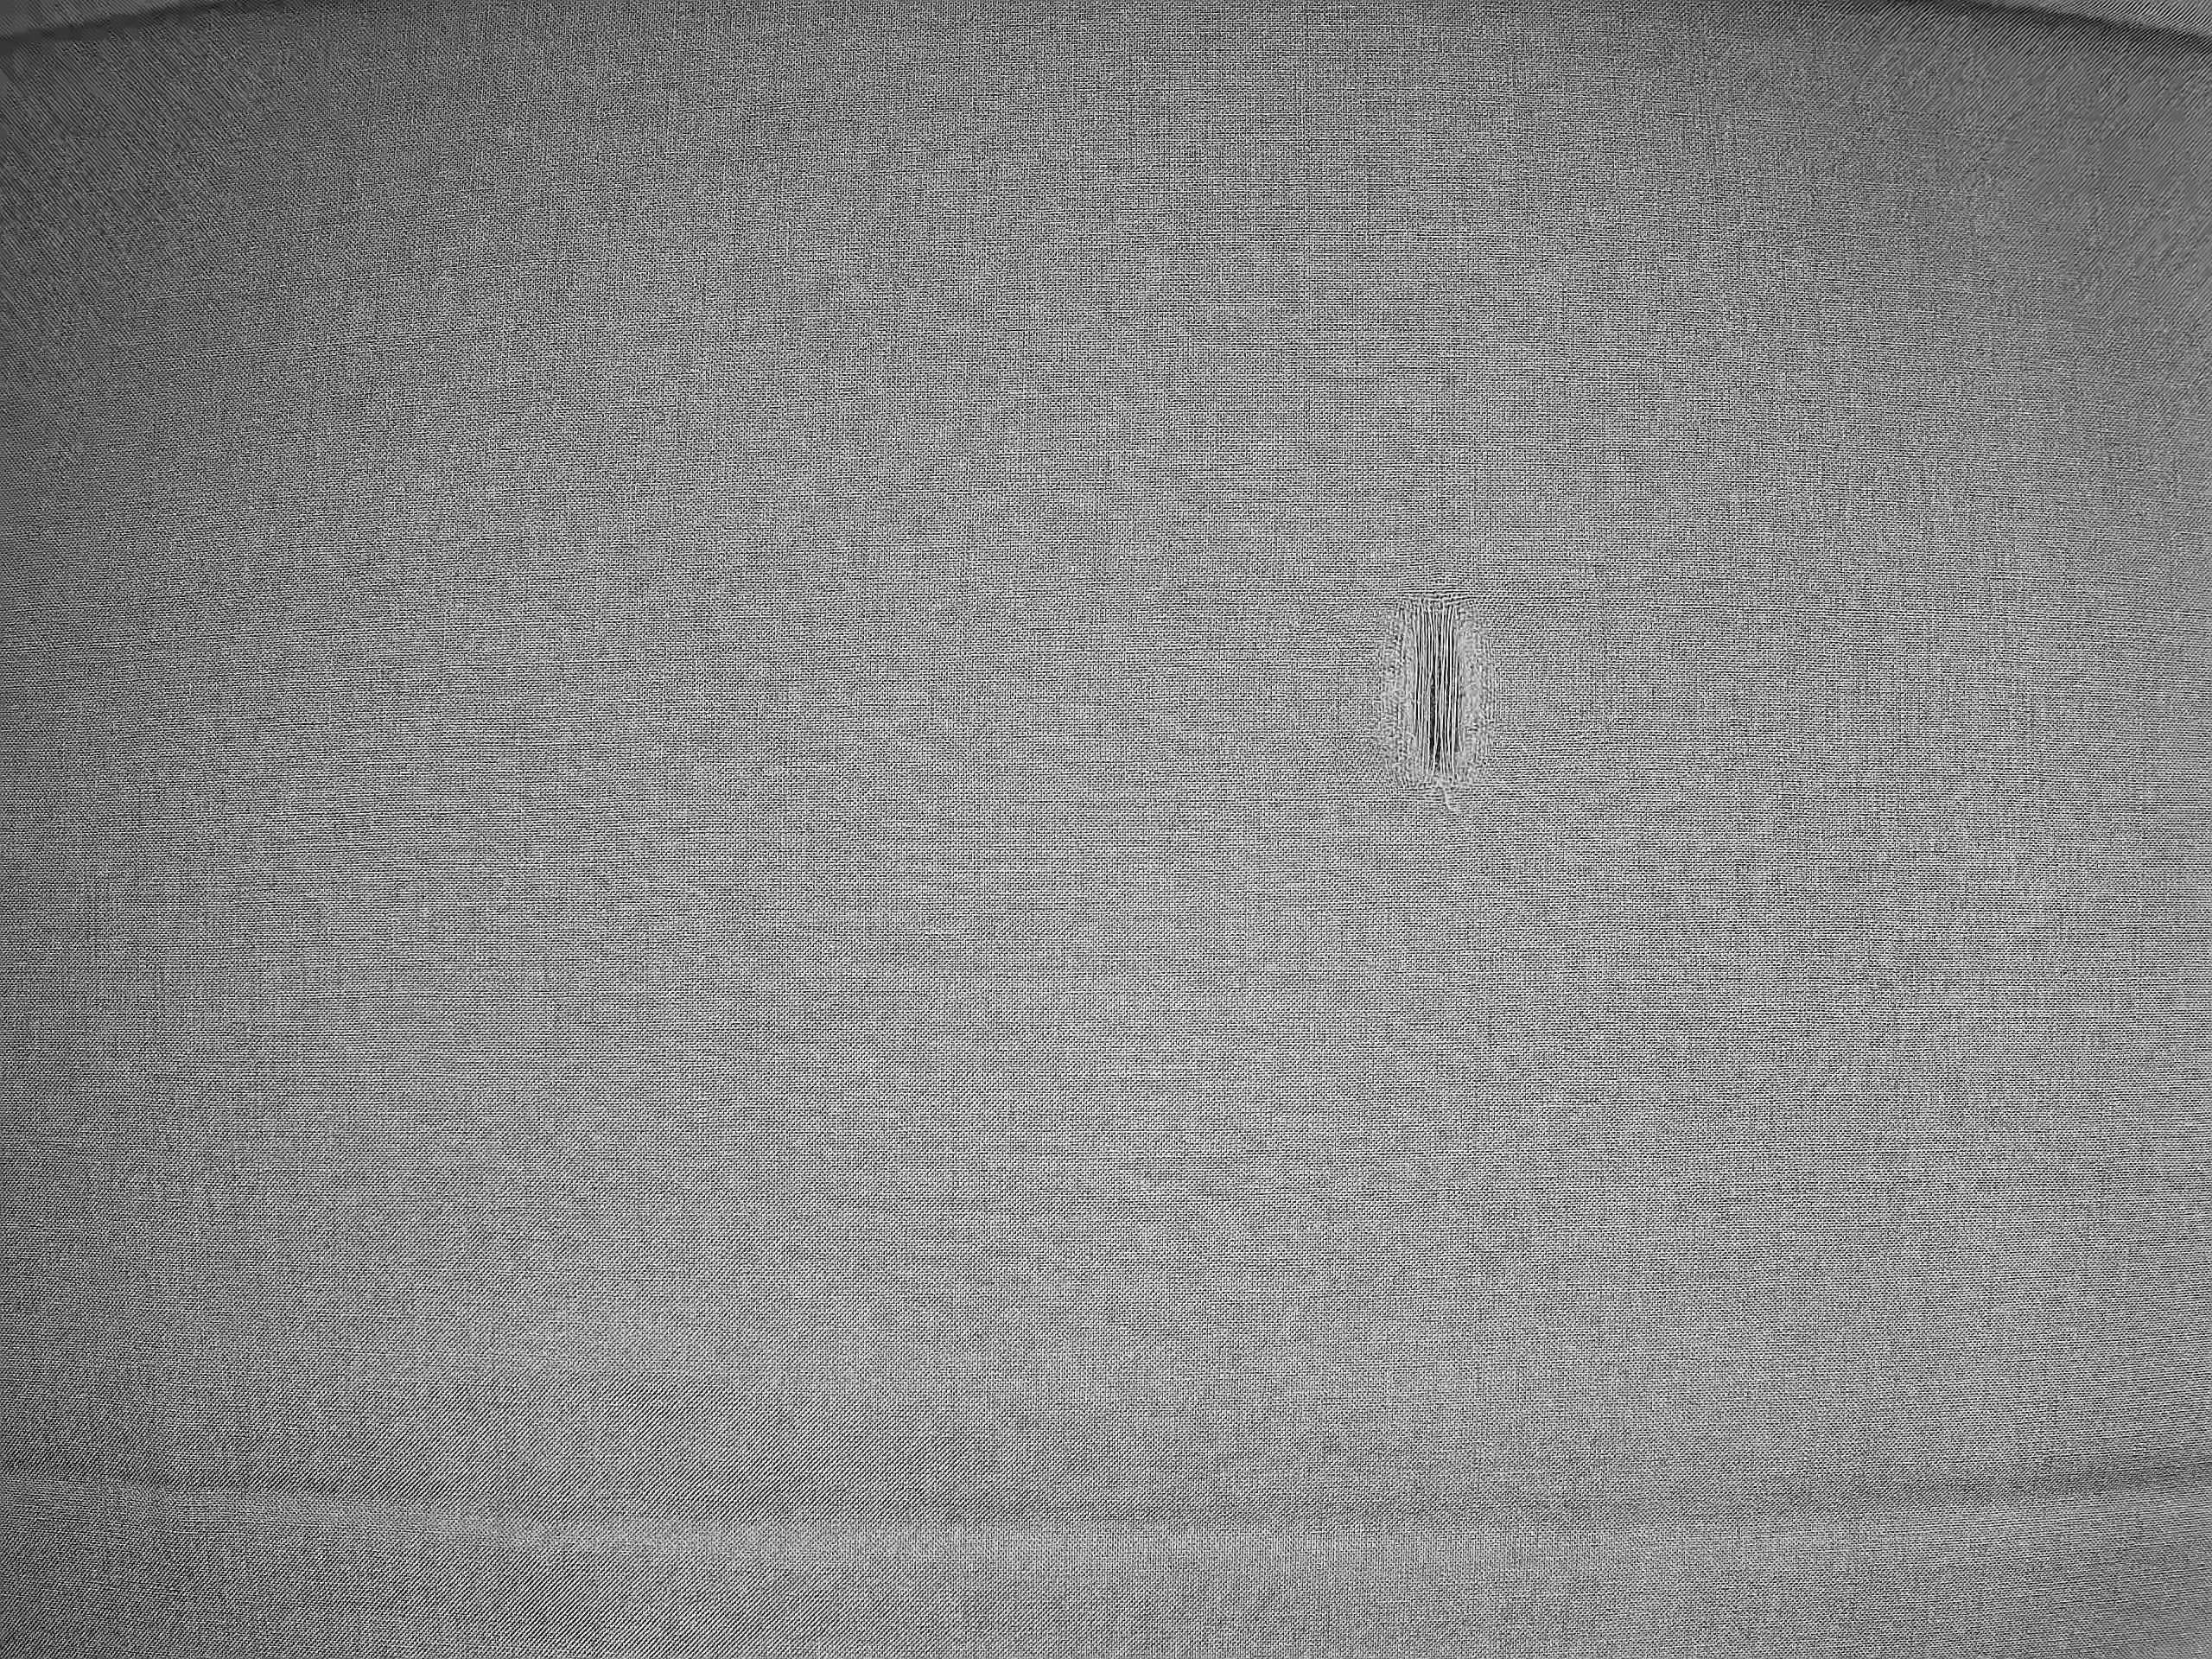brushed-hole: (1350, 556, 1529, 824)
